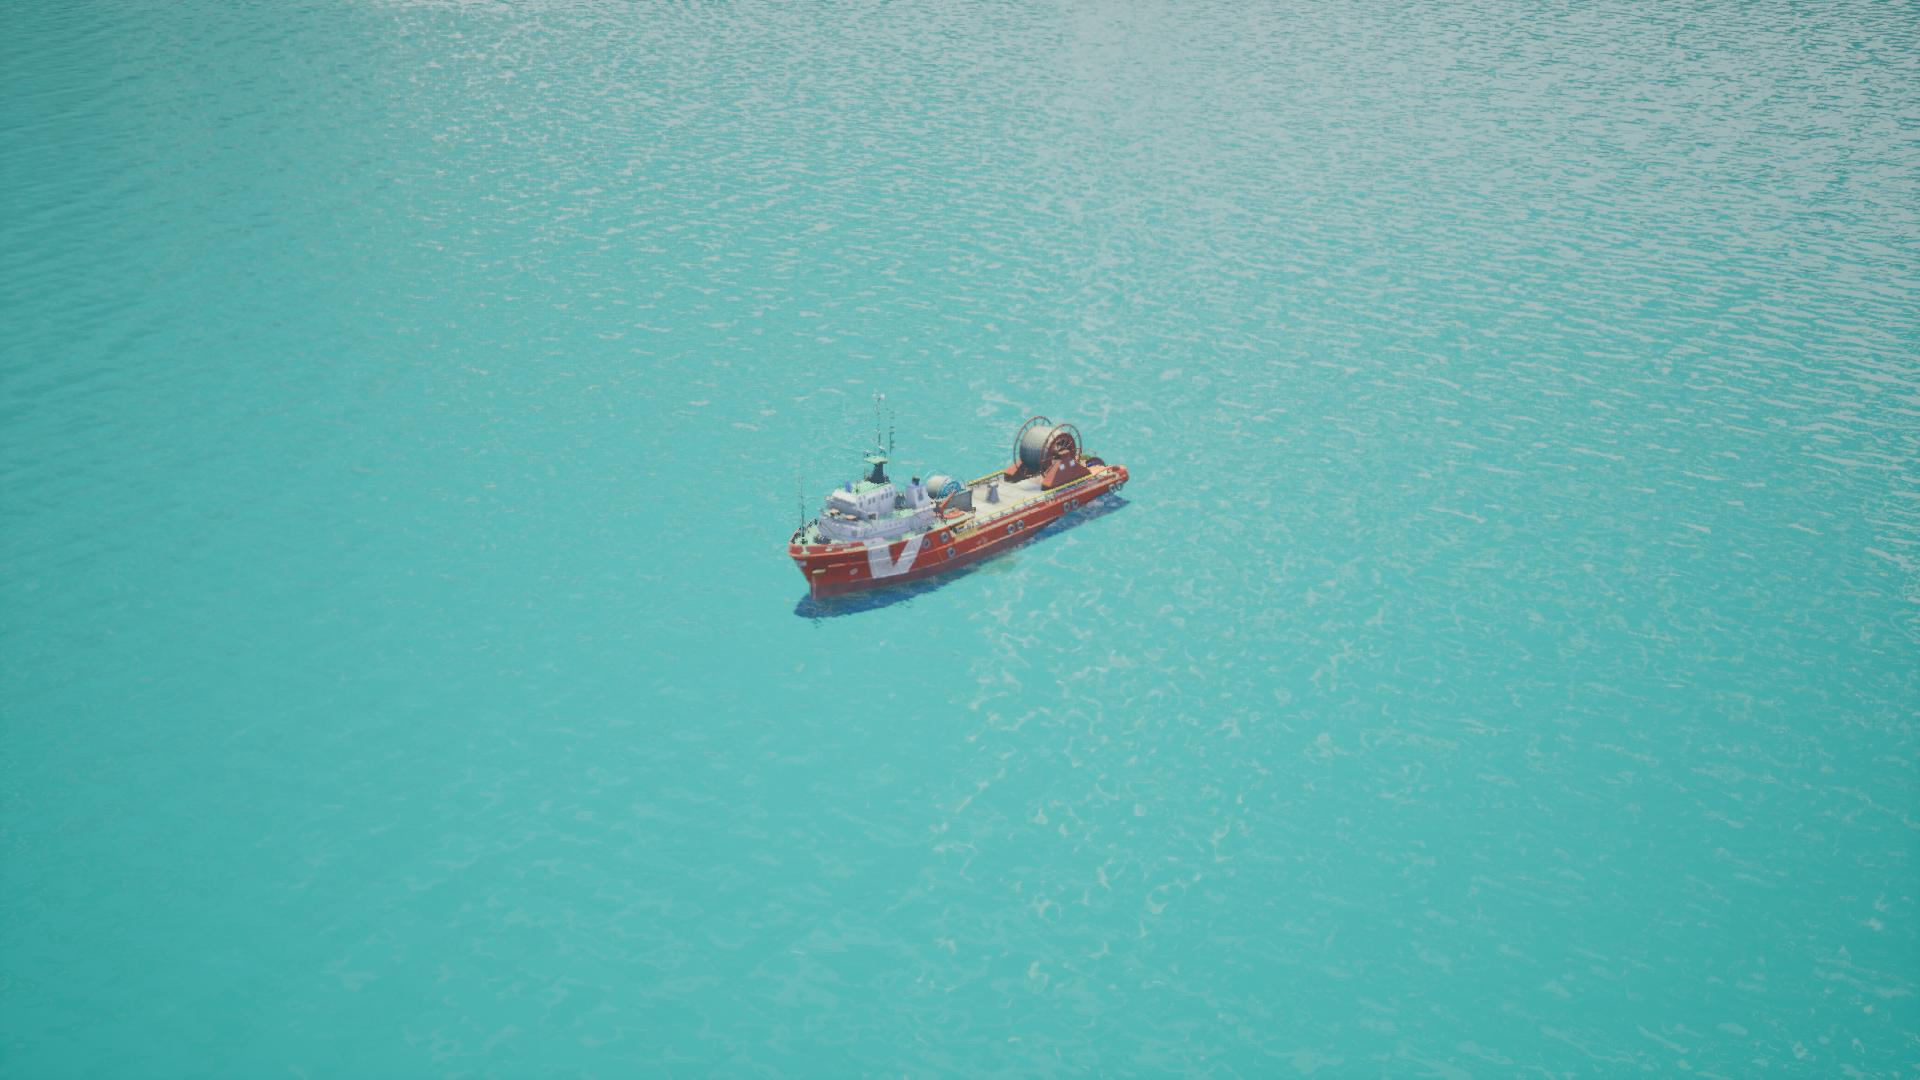Tug Boat: (783, 419, 1139, 617)
